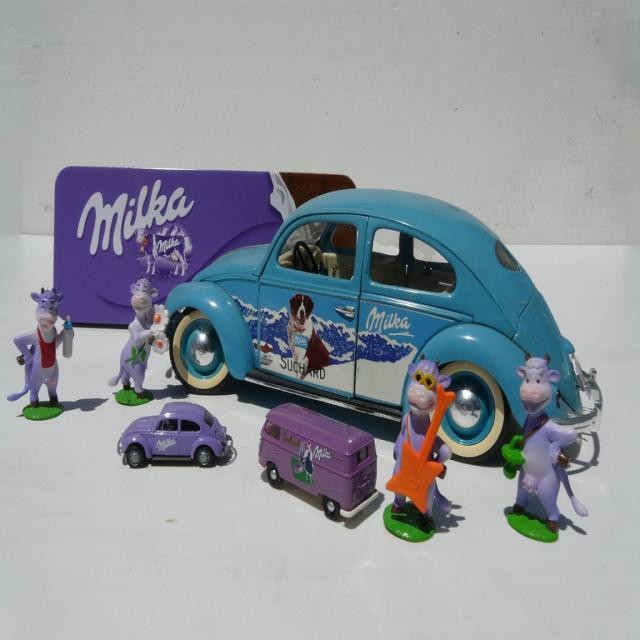milka: (72, 178, 198, 283)
